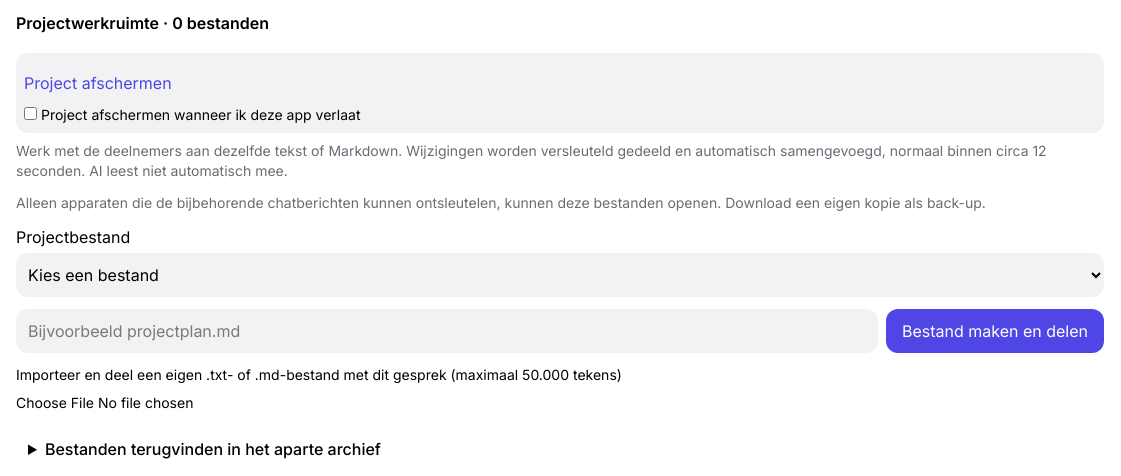
Test case: schermt op verzoek automatisch af bij verlaten van de app
Click the checkbox labelled "Project afschermen wanneer ik deze app verlaat".
click(30, 114)  # box x1=24 y1=107 x2=37 y2=120
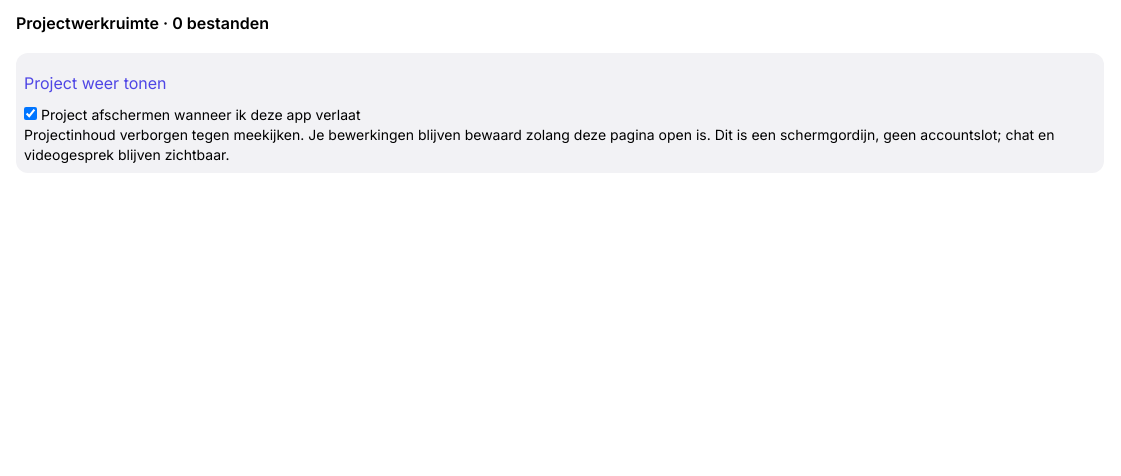
Expected: the button "Project weer tonen" is shown, x1=24 y1=61 x2=166 y2=105
